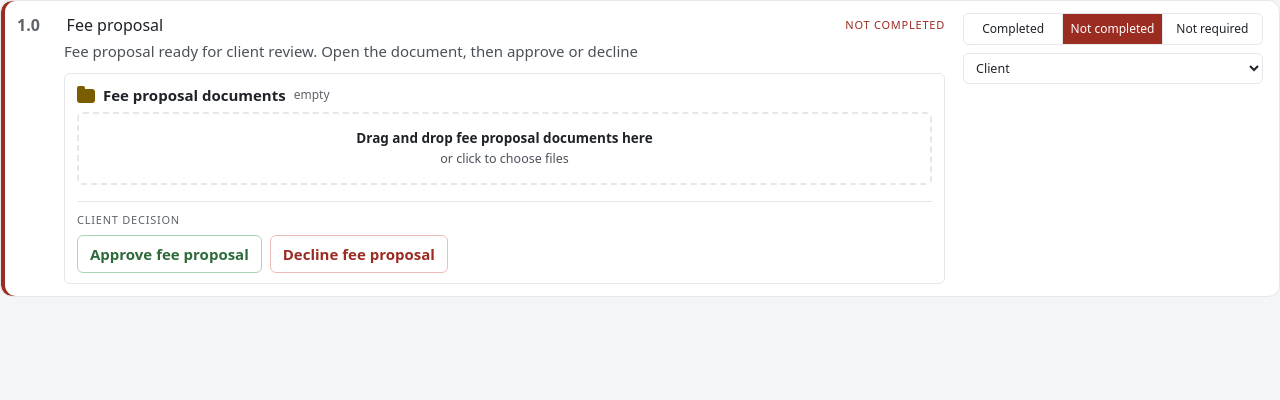
Test: approval panel: recording a decision › declines with a reason and shows the red result with the comment in quotes
This screenshot has width=1280, height=400.
Click the button "Decline fee proposal" at (359, 254), box [270,234,448,273]
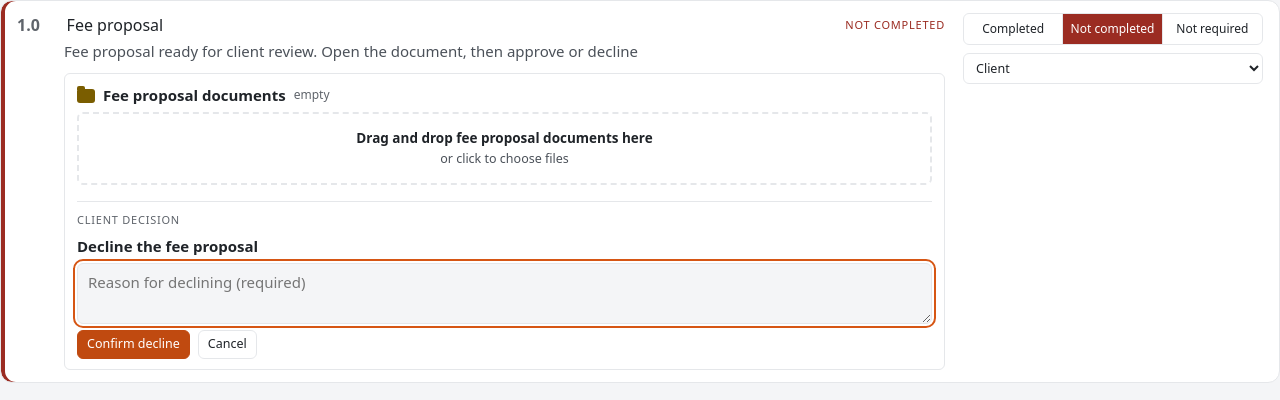
Type "Too expensive" into the text box at (504, 294), box [77,263,932,324]
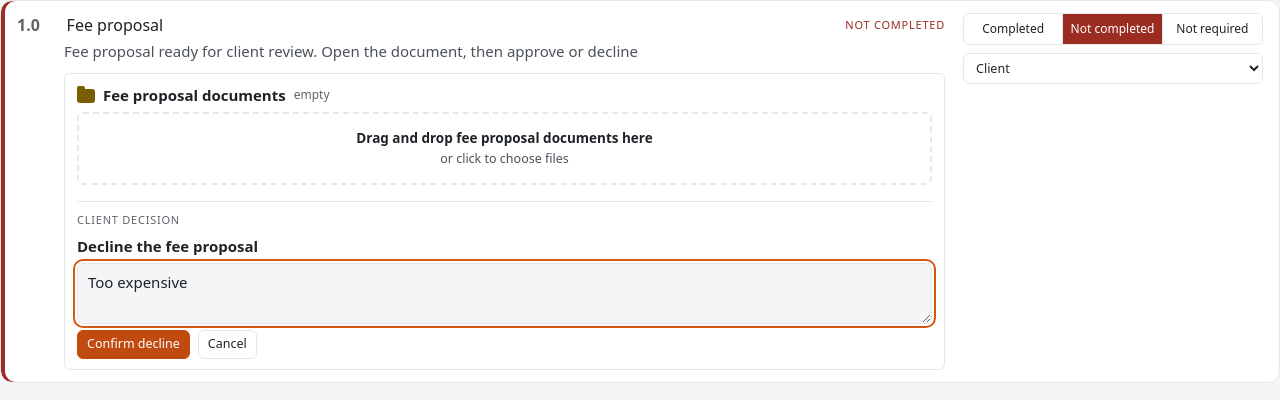
Click the button "Confirm decline" at (133, 344), box [77,330,190,359]
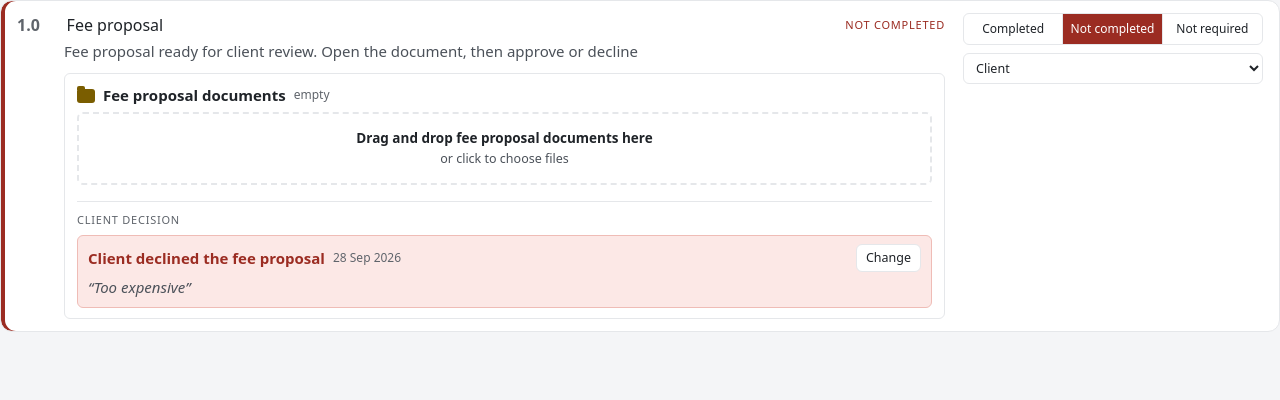
Expected: the text "Client declined the fee proposal" is shown, [88,247,325,269]
Expected: the text "“Too expensive”" is shown, [88,277,191,297]
